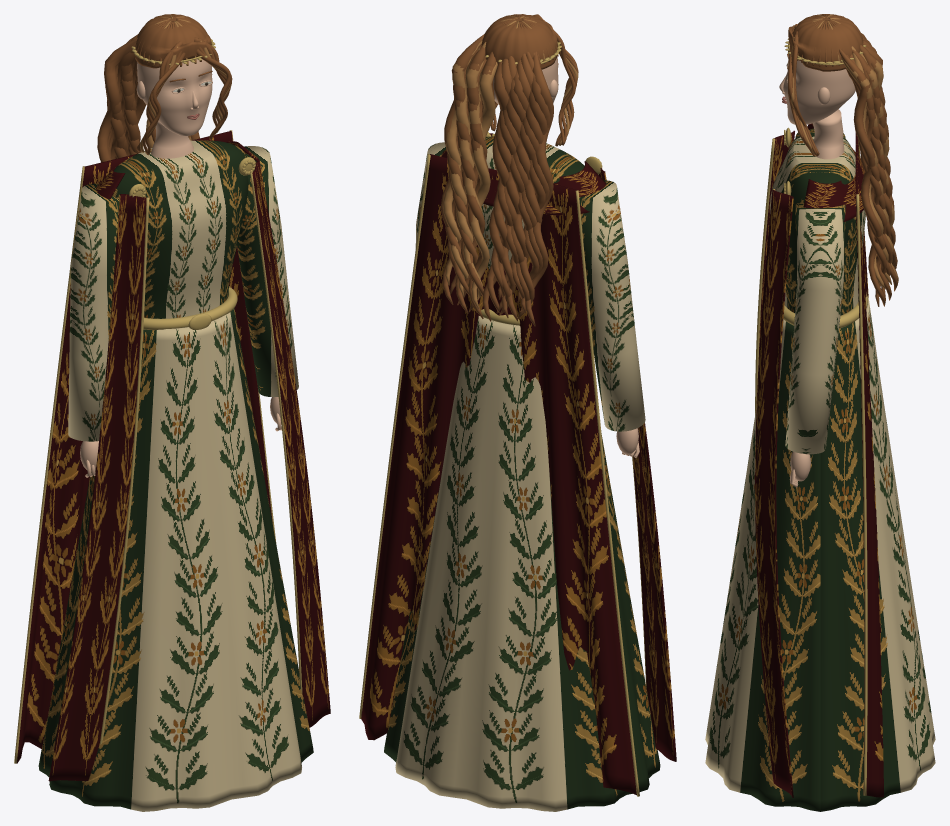
Rendered from princess-v9-standing.glb.
3 views of the same model, side by side, from view 1: azimuth 30°, elevation 25°; view 2: azimuth 150°, elevation 25°; view 3: azimuth 270°, elevation 25° (orthographic).
Parts seen in each view (by area): view 1: MorrisPrincess_surface, cape_surface, body_surface, head_surface, armL_surface, armR_surface; view 2: MorrisPrincess_surface, cape_surface, head_surface, armL_surface, body_surface; view 3: MorrisPrincess_surface, cape_surface, head_surface, armR_surface, body_surface.
Part boxes in pixels (box(x1,y1,x2,y2)): MorrisPrincess_surface: box(38, 308, 313, 811); cape_surface: box(14, 130, 330, 781); body_surface: box(112, 121, 255, 329); head_surface: box(97, 14, 232, 162); armL_surface: box(68, 183, 119, 477); armR_surface: box(237, 146, 298, 431); MorrisPrincess_surface: box(384, 316, 660, 811); cape_surface: box(359, 133, 676, 796); head_surface: box(441, 14, 578, 326); armL_surface: box(579, 180, 645, 457); body_surface: box(481, 132, 602, 325); MorrisPrincess_surface: box(705, 297, 935, 811); cape_surface: box(755, 123, 883, 797); head_surface: box(779, 14, 898, 306); armR_surface: box(785, 203, 845, 487); body_surface: box(770, 109, 867, 328).
Bounding box in the file's own units: 0.6502 × 1.66 × 0.4649.
10 materials, 2 textured.
